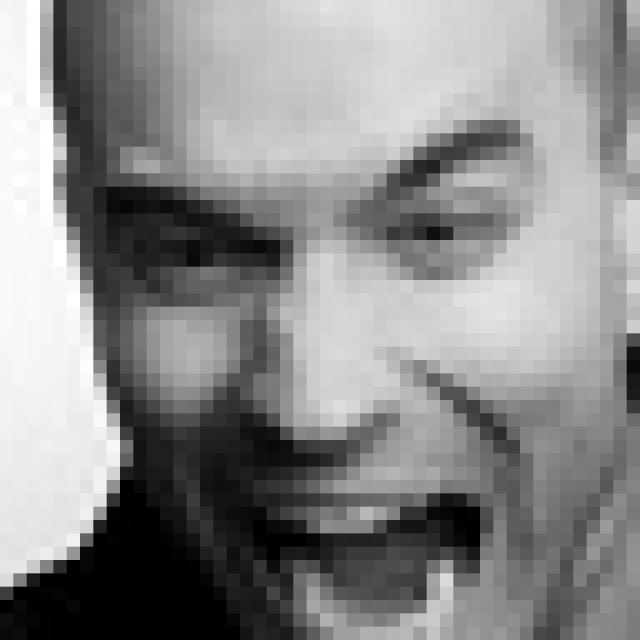angry: (93, 115, 537, 640)
